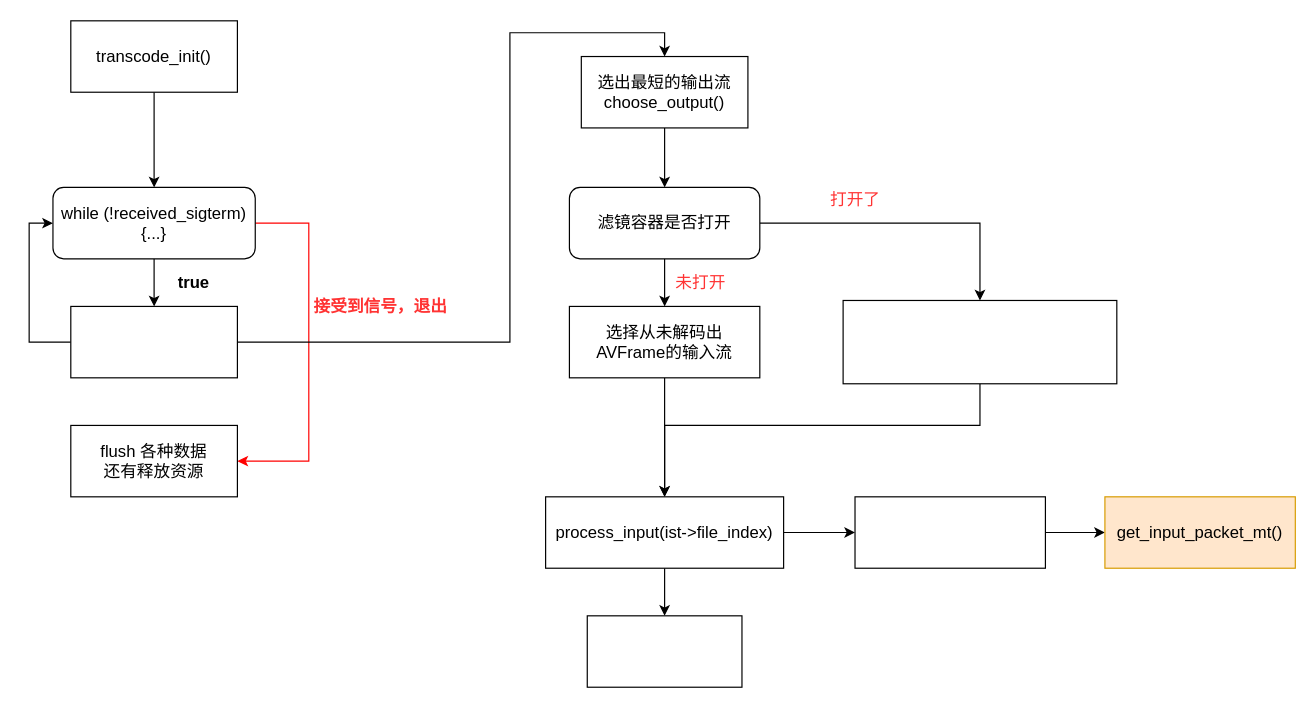
The diagram is 1316 pixels wide and 708 high, and some of its shapes have lost their labels. Here are the shapes that lost their labels. From the top down, the centre of each, then its label:
At point 153,341: "transcode_step()".
At point 979,341: "用滤镜容器来选出 最需要输入数据给滤镜的输入流 transcode_from_filter()".
At point 949,532: "获取一个 AVPacket get_input_packet()".
At point 664,651: "reap_filters(0)".
